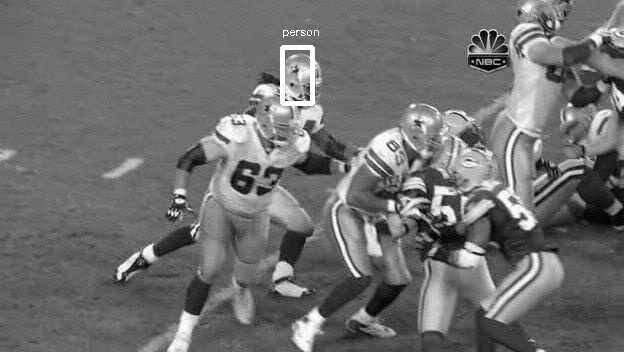person: (289, 54, 323, 103), (288, 54, 322, 103), (290, 54, 324, 103), (289, 53, 323, 102), (289, 55, 323, 104)
target_negative: (202, 316, 557, 340), (235, 289, 434, 327), (497, 241, 565, 347), (552, 242, 613, 339), (221, 76, 232, 274), (547, 195, 554, 348)
